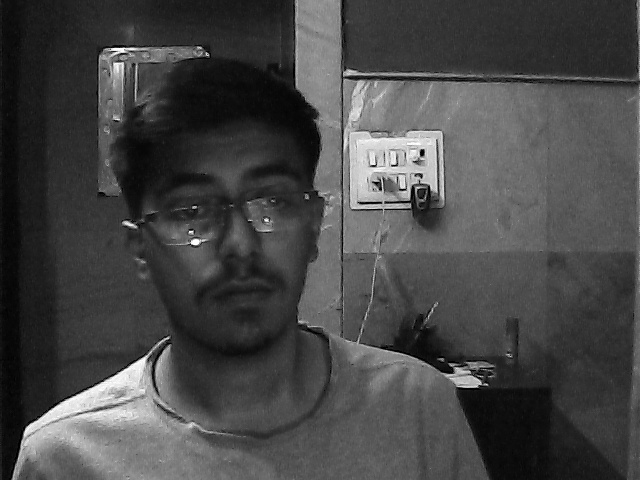nomask: (135, 108, 325, 345)
